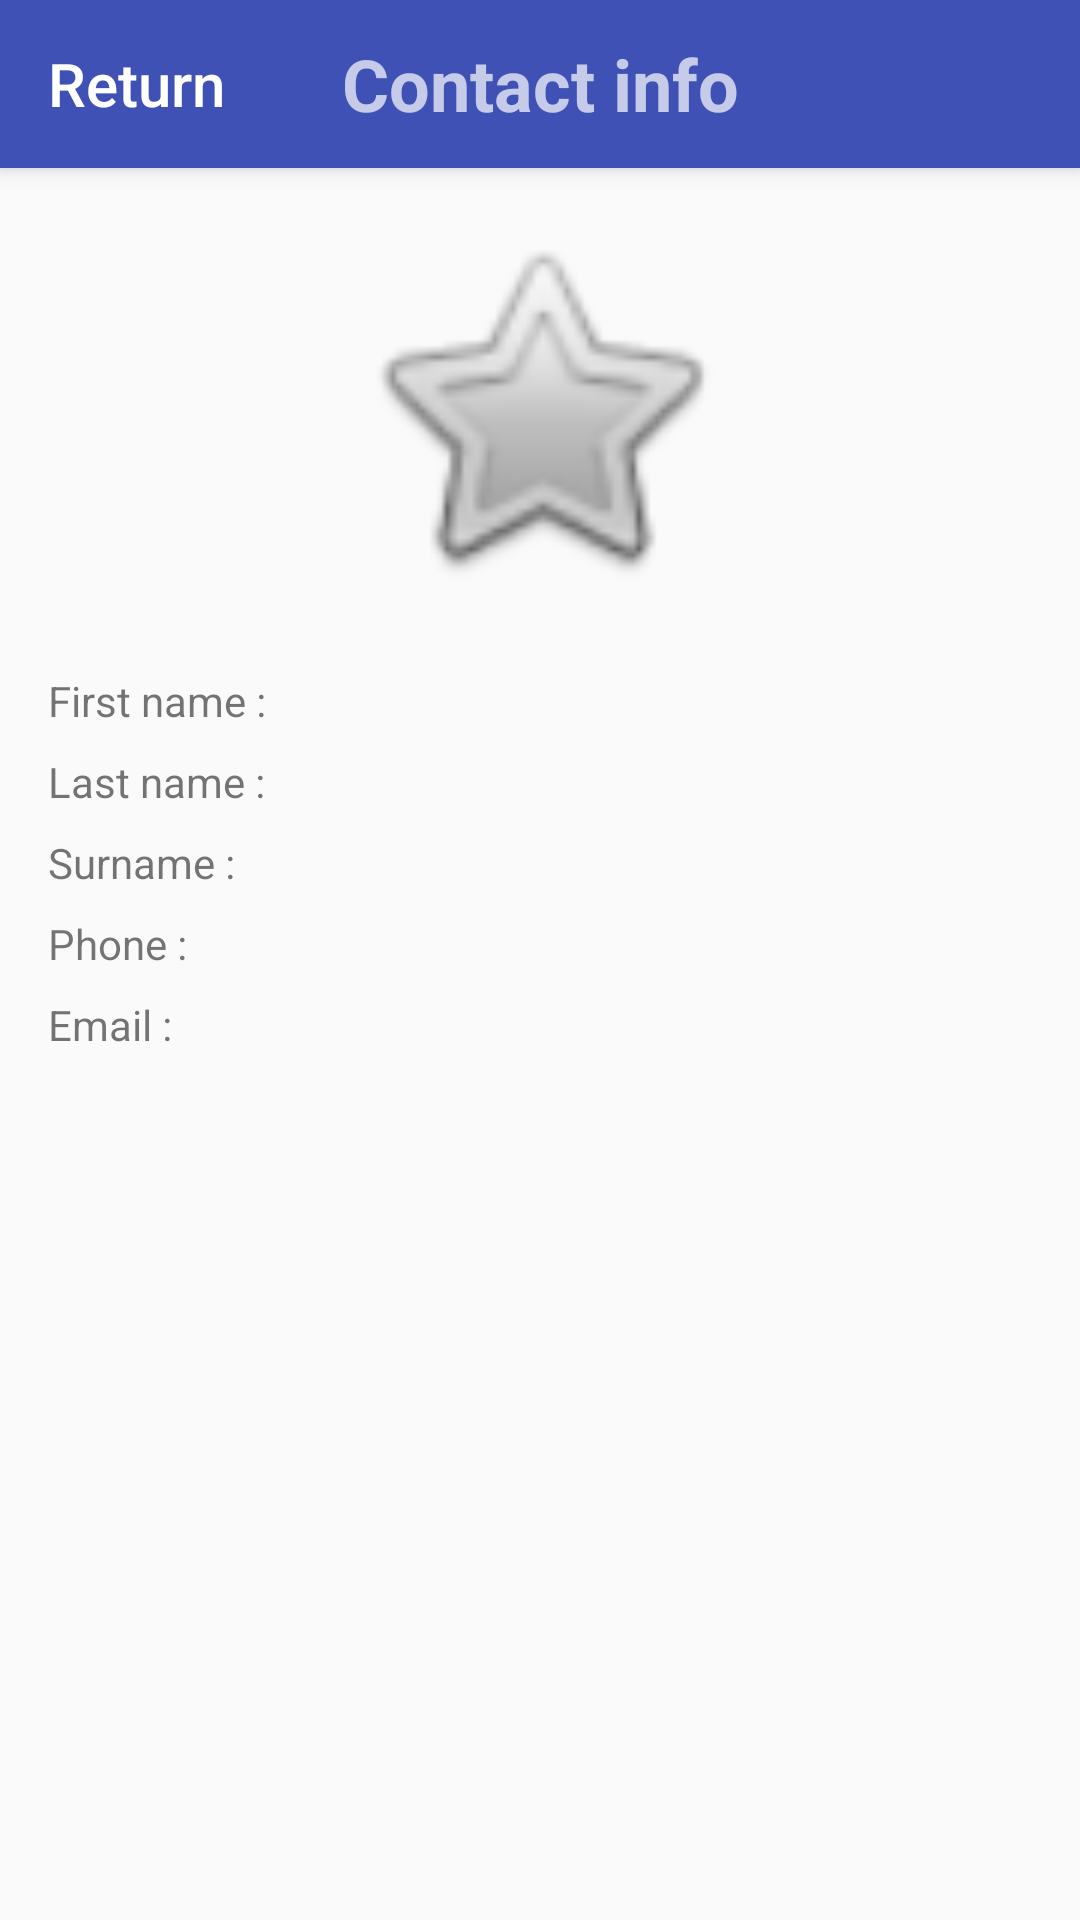

Icons on this 1080w x 1920h Android screen, each with the point to tap as (x=x, y=y):
star: (x=543, y=411)
